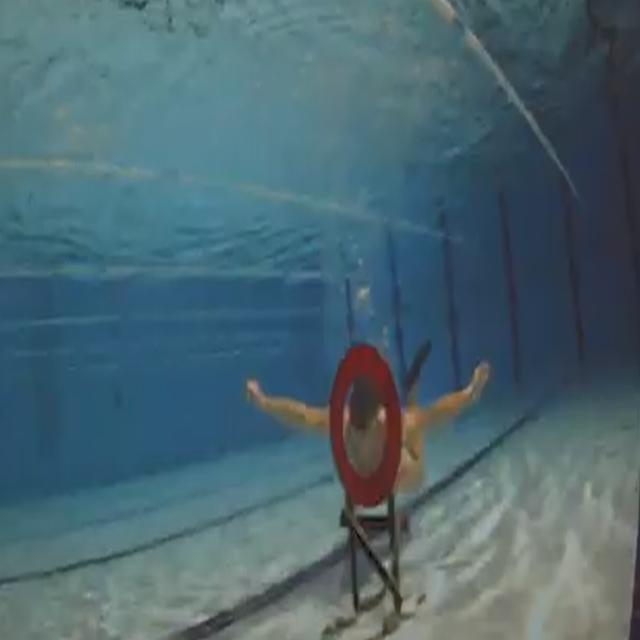Circle: (331, 337, 402, 510)
